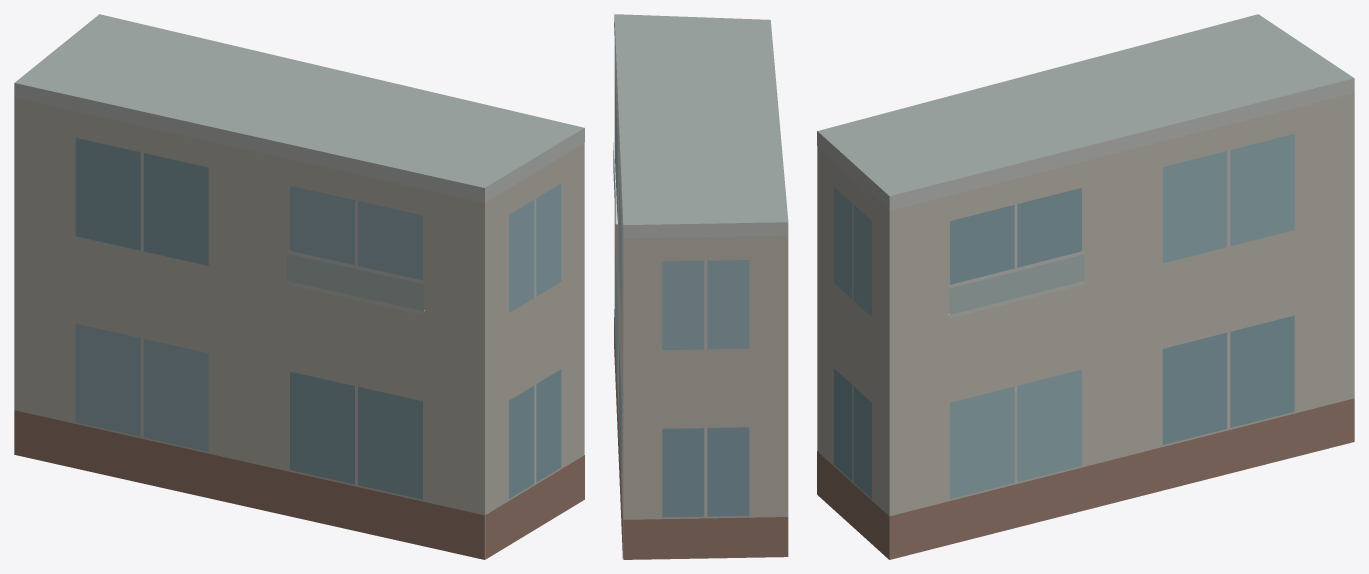
The model's file is survey-upis-32494812.glb.
3 views of the same model, side by side, from view 1: azimuth 30°, elevation 25°; view 2: azimuth 150°, elevation 25°; view 3: azimuth 270°, elevation 25° (orthographic). The views are drawn at different scales.
Visible parts, largest first — view 1: survey-upis-32494812.tmp; view 2: survey-upis-32494812.tmp; view 3: survey-upis-32494812.tmp.
Boxes of the visible parts, left/top/right/bottom form: survey-upis-32494812.tmp: left=14, top=14, right=584, bottom=559; survey-upis-32494812.tmp: left=613, top=14, right=788, bottom=559; survey-upis-32494812.tmp: left=817, top=14, right=1354, bottom=559.
Bounding box in the file's own units: 6.57 × 6.1 × 8.18.
